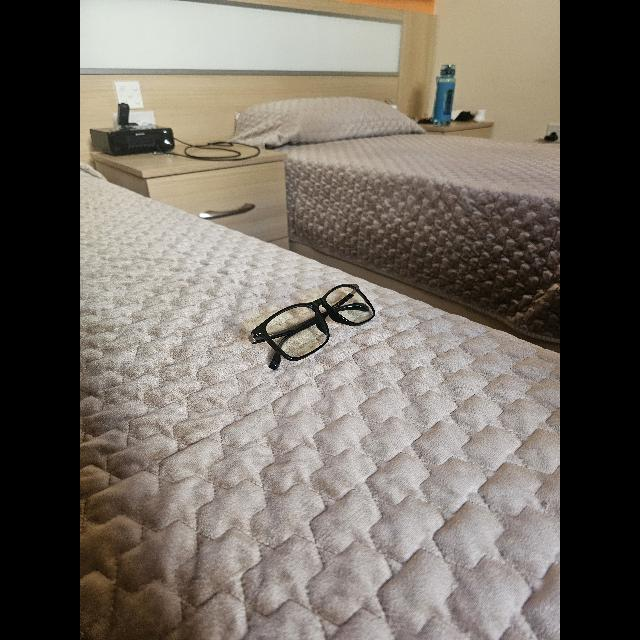glasses: (248, 284, 376, 370)
